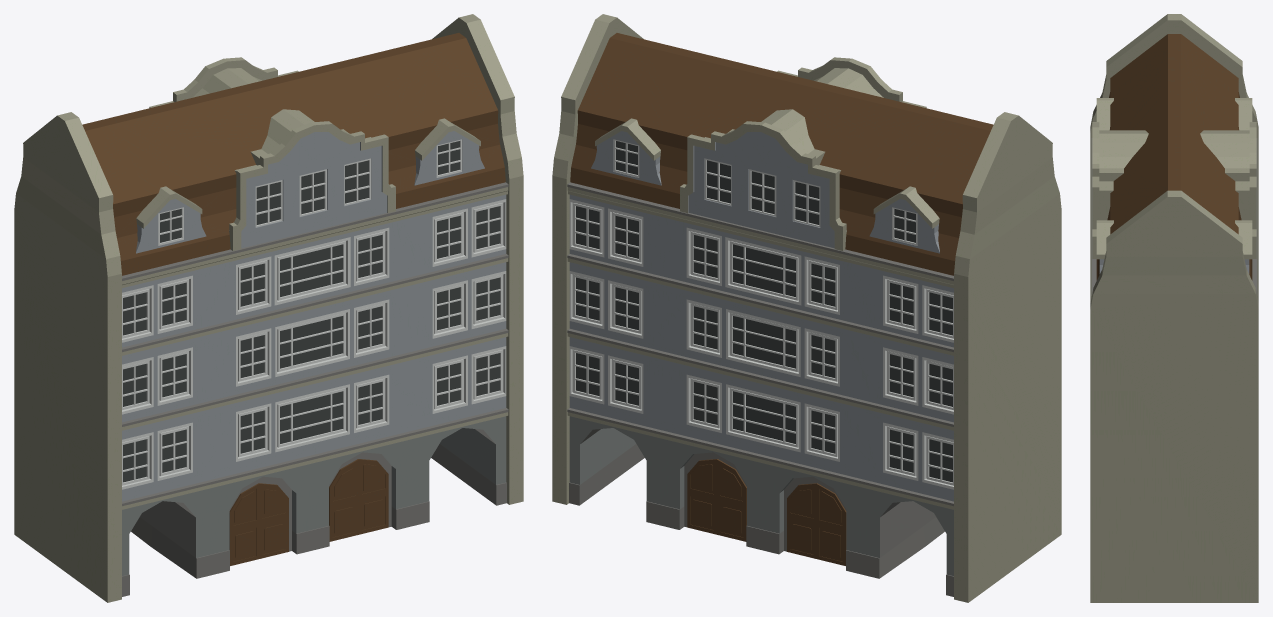
File: Building2_Large.glb
The picture shows the model from 3 angles, left to right: view 1: azimuth 30°, elevation 25°; view 2: azimuth 150°, elevation 25°; view 3: azimuth 270°, elevation 25°; orthographic projection. The views are drawn at different scales.
Parts seen in each view (by area): view 1: Building2_Large; view 2: Building2_Large; view 3: Building2_Large.
Boxes of the visible parts, bbox=[...] form: Building2_Large: bbox=[14, 14, 523, 602]; Building2_Large: bbox=[552, 14, 1061, 602]; Building2_Large: bbox=[1090, 14, 1258, 602].
Bounding box in the file's own units: 5.72 × 5.92 × 2.22.
Materials: 1 (1 with a texture image).
